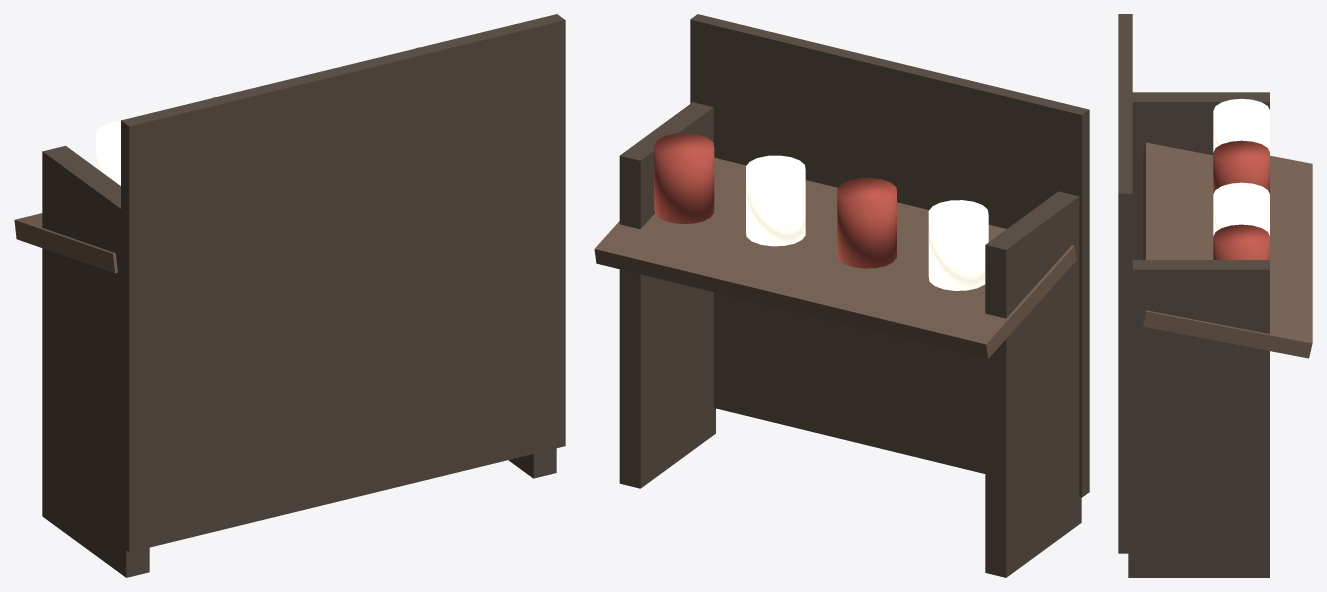
File: prop_mise_tana.glb
The picture shows the model from 3 angles, left to right: view 1: azimuth 30°, elevation 25°; view 2: azimuth 150°, elevation 25°; view 3: azimuth 270°, elevation 25°; orthographic projection. The views are drawn at different scales.
Visible parts, largest first — view 1: mise_tana; view 2: mise_tana; view 3: mise_tana.
Part boxes in pixels (x1,y1,x2,y2): mise_tana: [14, 14, 565, 577]; mise_tana: [594, 14, 1089, 577]; mise_tana: [1118, 14, 1312, 577].
Size of the model in its own units: 1.5 by 1.5 by 0.6847.
